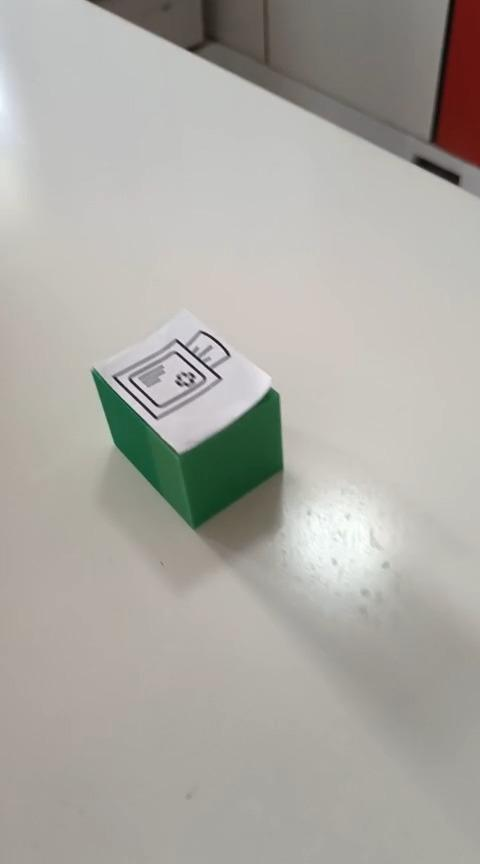Gauze: (89, 306, 284, 530)
